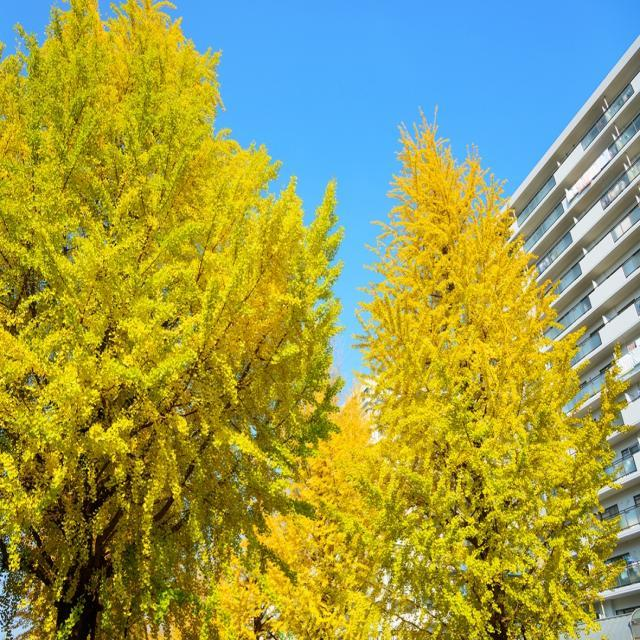Tree: (1, 2, 348, 640), (339, 112, 638, 640), (262, 350, 416, 640)
